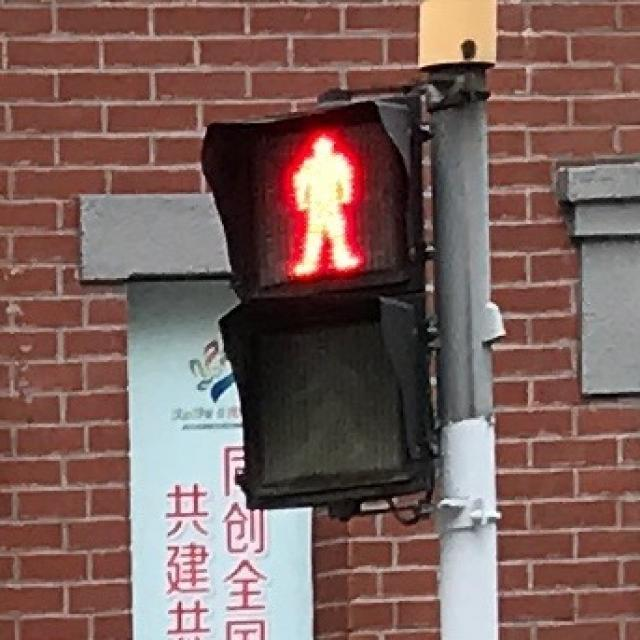red-crossing: (248, 120, 396, 284)
